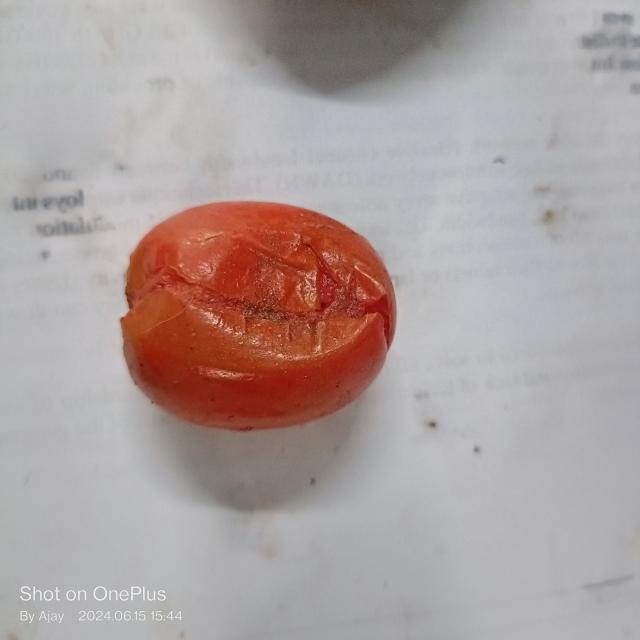Botrytis: (133, 278, 396, 319)
